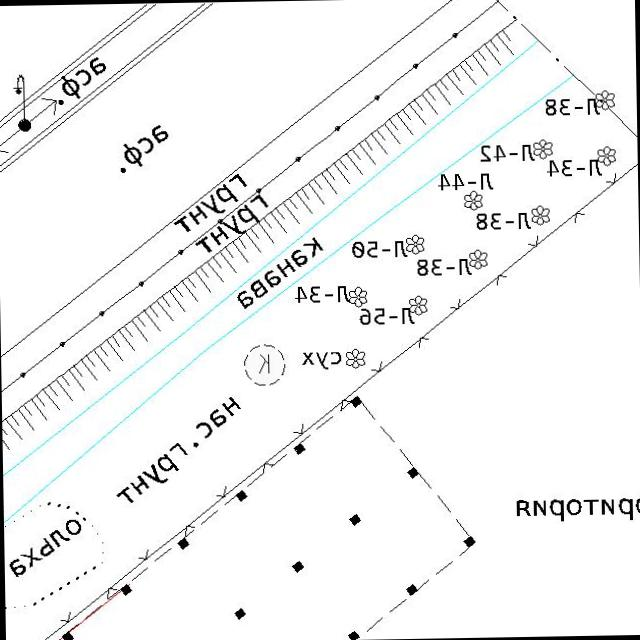asphalt: (117, 122, 170, 174), (55, 56, 108, 106)
bushes: (242, 342, 286, 387), (594, 88, 616, 112), (462, 189, 484, 212), (403, 234, 426, 256), (532, 138, 554, 160), (468, 247, 490, 269), (407, 294, 429, 316), (344, 347, 366, 369), (530, 202, 550, 226), (596, 144, 617, 166), (347, 286, 368, 308)
